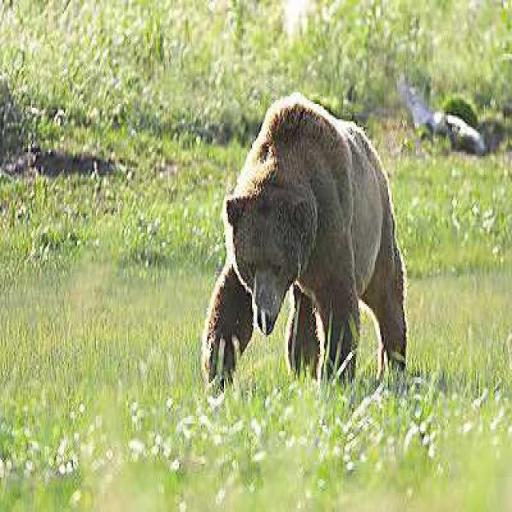Bear: (200, 90, 408, 394)
